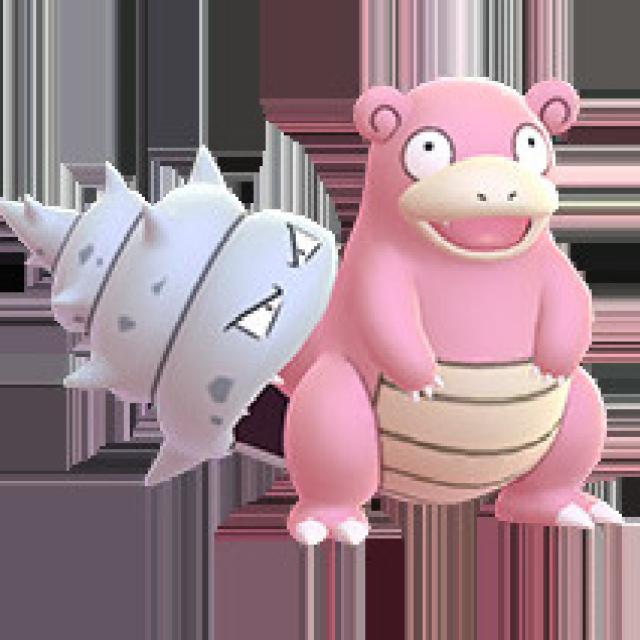Slowbro: (229, 53, 614, 556)
